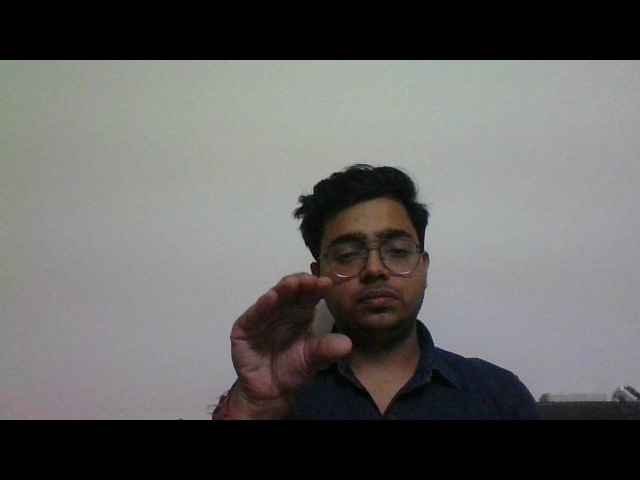no: (209, 257, 367, 402)
